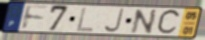7: (48, 4, 70, 33)
C: (155, 8, 182, 37)
F: (21, 4, 49, 31)
J: (102, 8, 126, 34)
L: (75, 6, 95, 33)
N: (130, 8, 159, 35)
